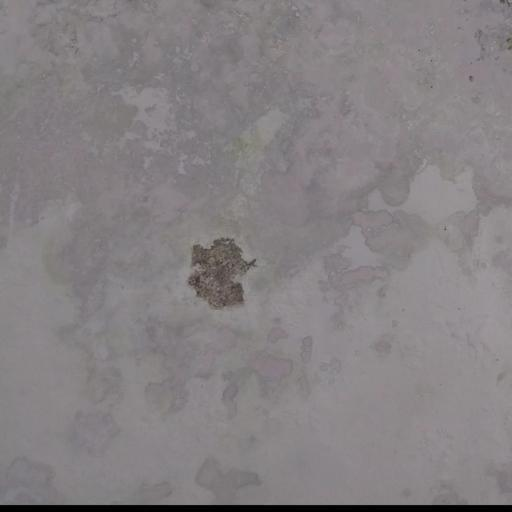peeling: (168, 220, 267, 324)
